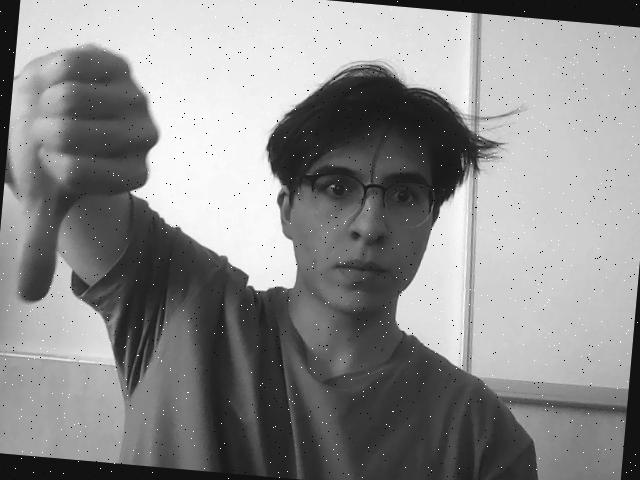bad: (2, 30, 170, 319)
